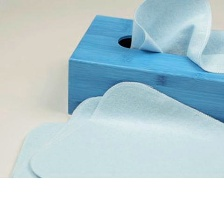tissue: (2, 76, 224, 177), (123, 0, 224, 77)
